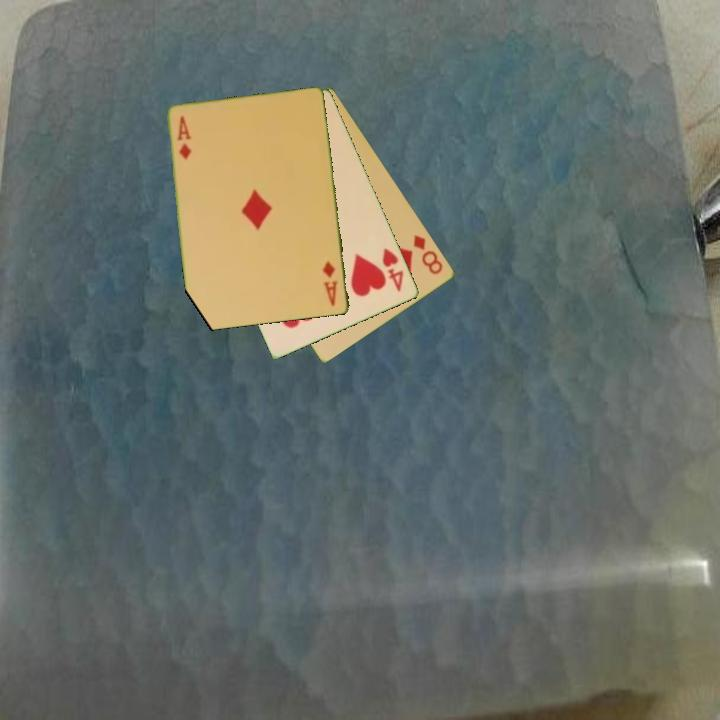4h: (379, 245, 407, 295)
8d: (410, 231, 446, 278)
Ad: (319, 257, 341, 309), (174, 113, 195, 163)
